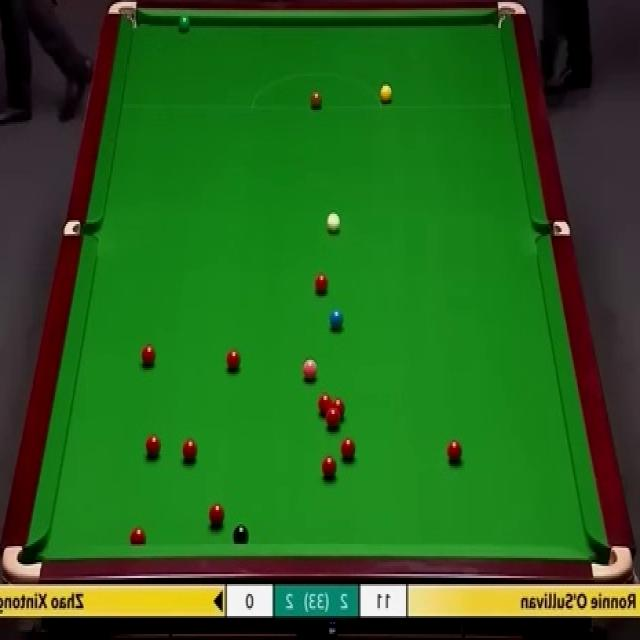black-ball: (232, 523, 248, 545)
blue-ball: (328, 308, 344, 329)
brown-ball: (310, 88, 322, 108)
green-ball: (177, 11, 190, 30)
pink-ball: (301, 359, 318, 384)
red-ball: (444, 440, 466, 465), (320, 451, 337, 480), (180, 438, 198, 464), (225, 346, 242, 373), (208, 504, 225, 530), (339, 439, 359, 461), (144, 434, 160, 458), (142, 344, 156, 369), (312, 274, 330, 293), (332, 398, 346, 422), (318, 393, 331, 418), (129, 526, 147, 543), (324, 411, 340, 430)
white-ball: (325, 212, 341, 232)
yellow-ball: (381, 86, 393, 102)
